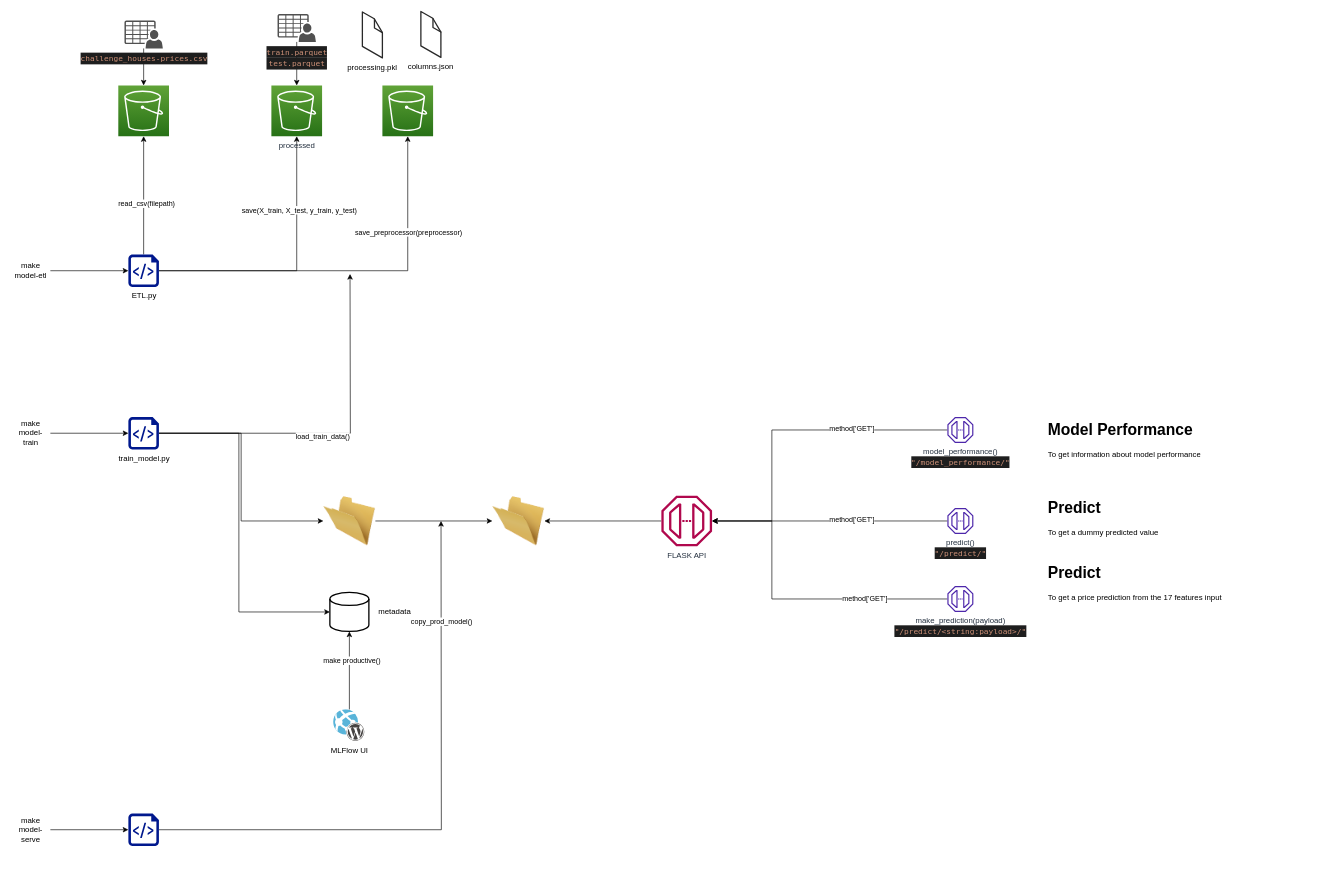
This 1329x871 diagram has some shape labels left out. The shapes that lost their labels are listed below. From the top down, each one's centre as x and y in pixels, then its label:
pixel 143 110: raw
pixel 407 110: models
pixel 349 521: models artifacts
pixel 518 521: model
pixel 349 612: DB
pixel 143 829: model_serve.py
